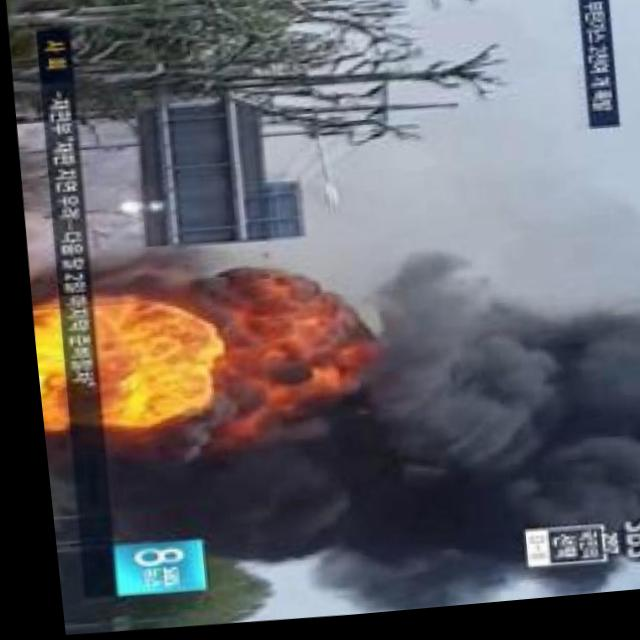Fire: (77, 286, 200, 427), (24, 294, 58, 435)
